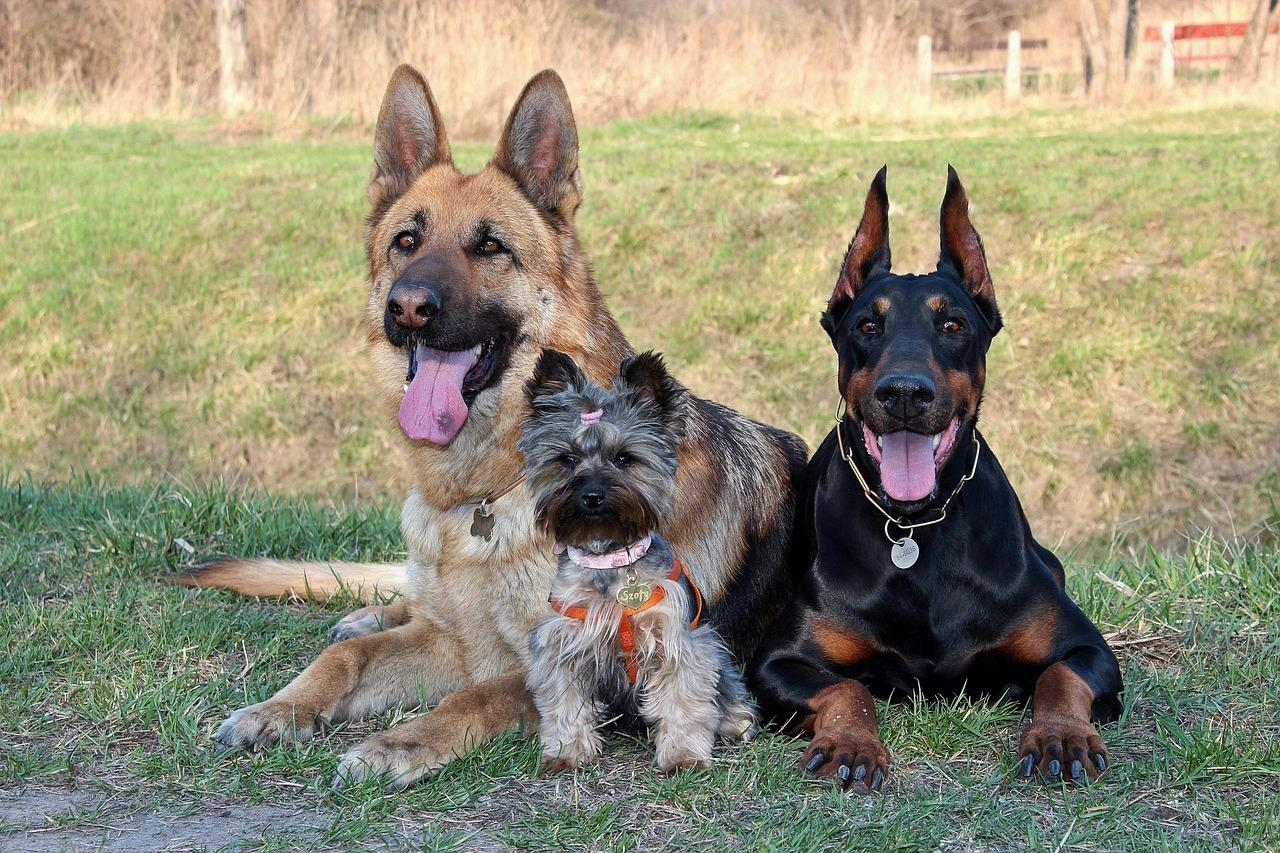german_shepherd: (336, 73, 593, 428)
